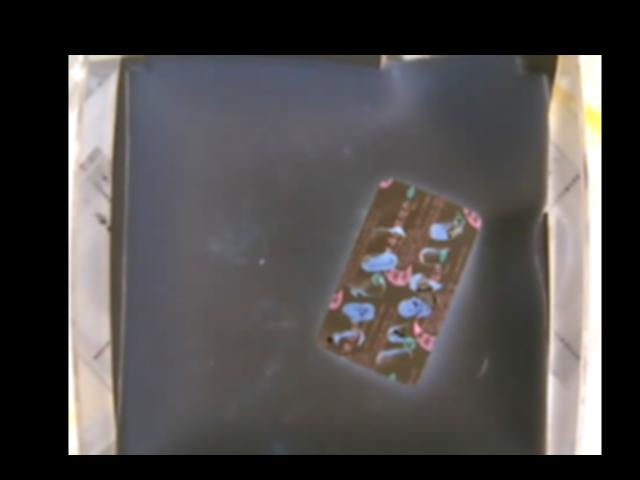Medicine: (320, 180, 481, 387)
